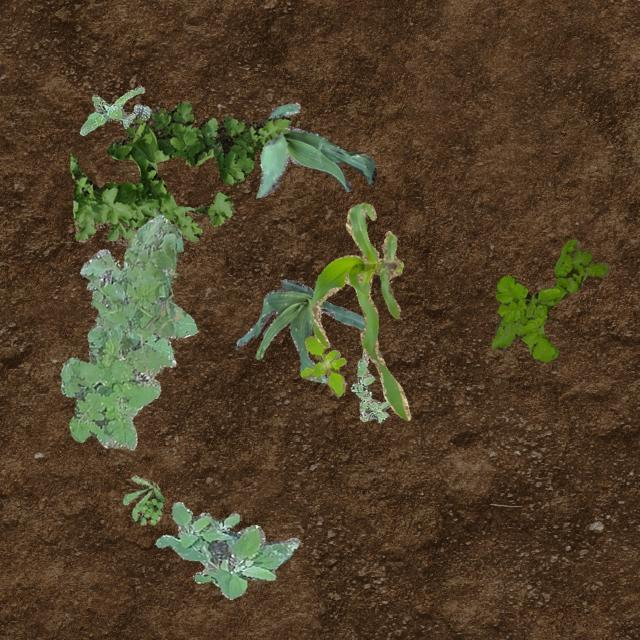crop: (310, 202, 410, 420), (235, 278, 364, 382), (256, 102, 376, 196)
weed: (68, 100, 290, 248), (59, 214, 198, 448), (490, 238, 610, 360), (154, 502, 298, 598), (78, 86, 150, 134), (300, 334, 346, 396), (349, 349, 388, 422), (122, 474, 164, 524)
